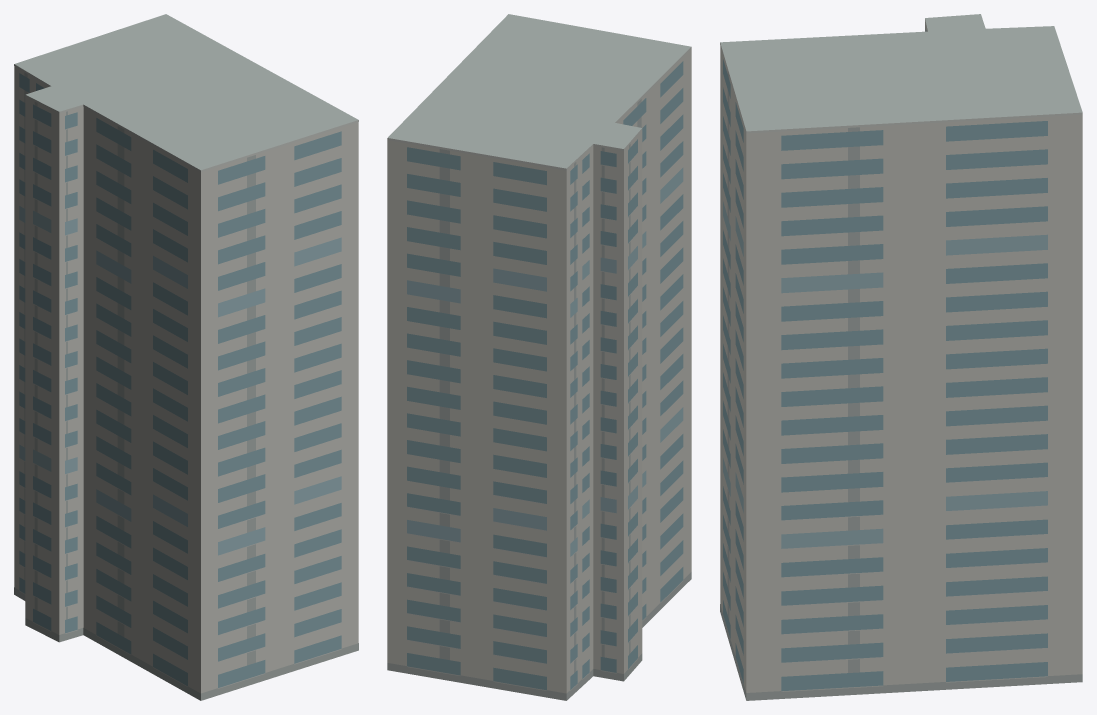
The model's file is survey-upis-32683577.glb.
3 renders of one model, left to right at view 1: azimuth 30°, elevation 25°; view 2: azimuth 150°, elevation 25°; view 3: azimuth 270°, elevation 25°, orthographic. The views are drawn at different scales.
Parts seen in each view (by area): view 1: survey-upis-32683577.tmp; view 2: survey-upis-32683577.tmp; view 3: survey-upis-32683577.tmp.
Part boxes in pixels (x1,y1,x2,y2): survey-upis-32683577.tmp: (14,14,358,700); survey-upis-32683577.tmp: (387,14,691,700); survey-upis-32683577.tmp: (720,14,1082,700).
Size of the model in its own units: 27.78 by 62.8 by 36.25.
